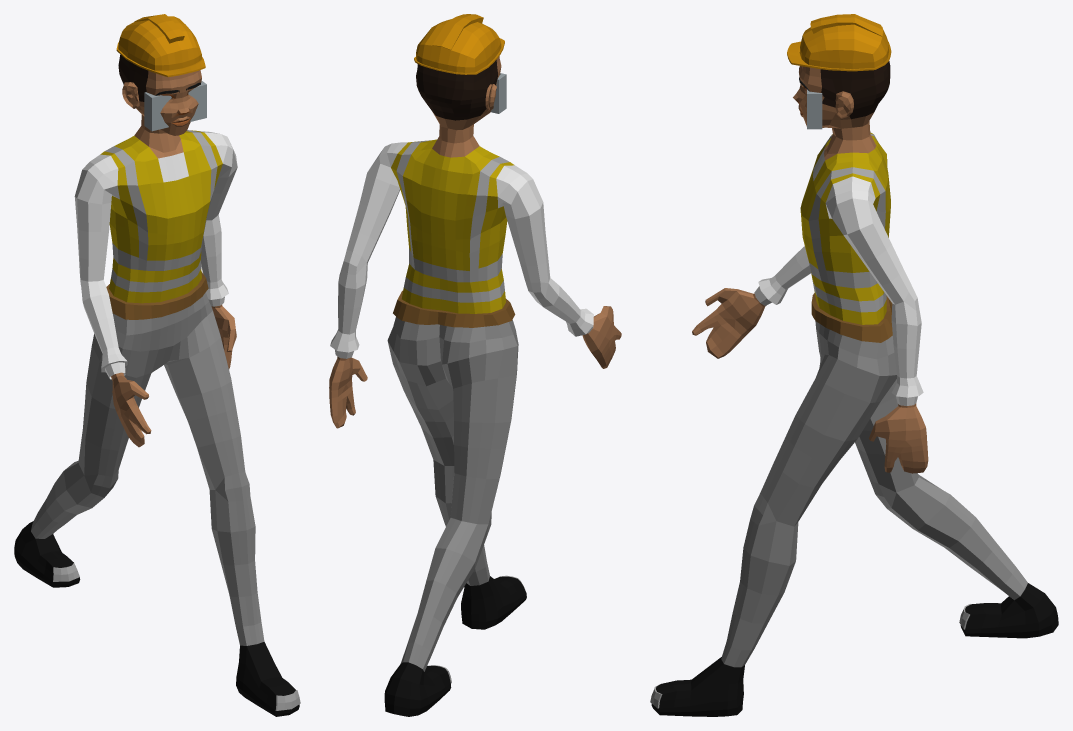
Rendered from Engineer_Walk_Mask.fbx.
3 renders of one model, left to right at view 1: azimuth 30°, elevation 25°; view 2: azimuth 150°, elevation 25°; view 3: azimuth 270°, elevation 25°, orthographic. The views are drawn at different scales.
Parts seen in each view (by area): view 1: Engineer_Walk_Mask; view 2: Engineer_Walk_Mask; view 3: Engineer_Walk_Mask.
Boxes of the visible parts, <box> form: Engineer_Walk_Mask: <box>14,14,300,716</box>; Engineer_Walk_Mask: <box>329,14,621,716</box>; Engineer_Walk_Mask: <box>650,14,1058,716</box>.
Size of the model in its own units: 0.3284 by 1.05 by 0.578.
